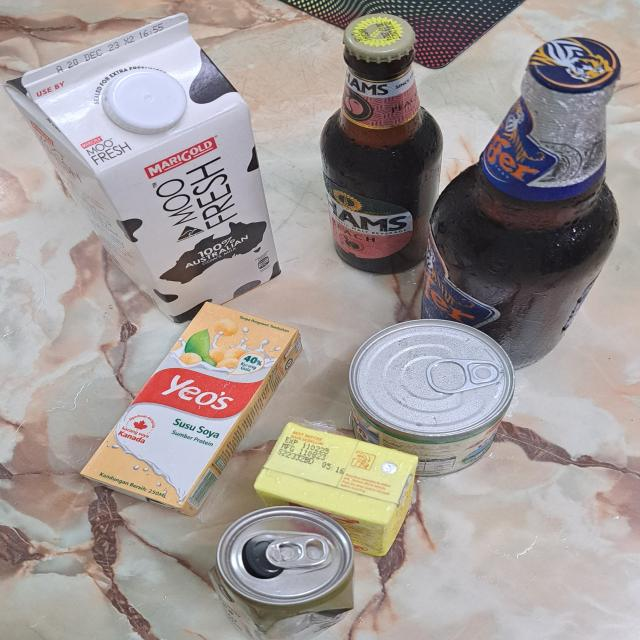can: (347, 319, 513, 479), (210, 507, 357, 640)
drink carton: (6, 13, 282, 325), (79, 301, 302, 517), (254, 422, 418, 558)
glass bottle: (423, 36, 616, 371), (323, 12, 442, 276)
plastic bottle cap: (102, 68, 188, 132)
pop tab: (426, 358, 504, 394), (266, 536, 331, 568)
